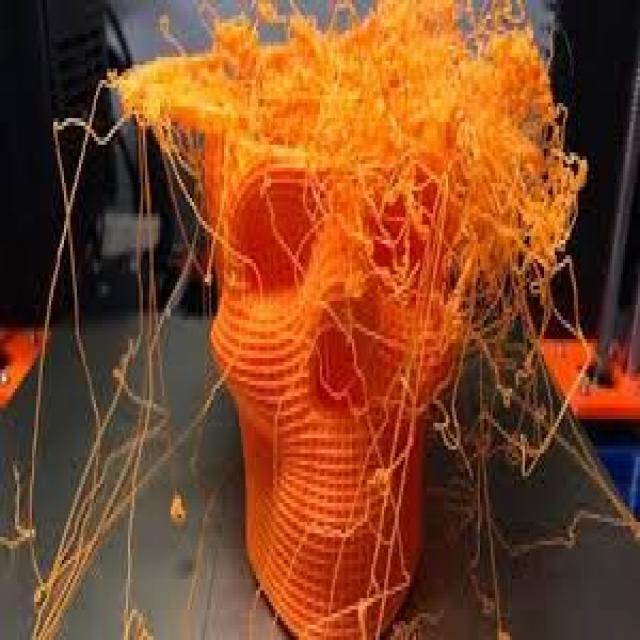spaghetti: (174, 57, 555, 322)
